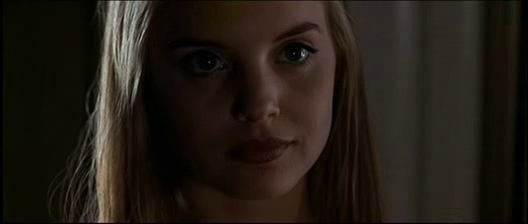cu: (1, 1, 528, 224)
face: (165, 1, 337, 202)
person: (60, 1, 382, 224)
